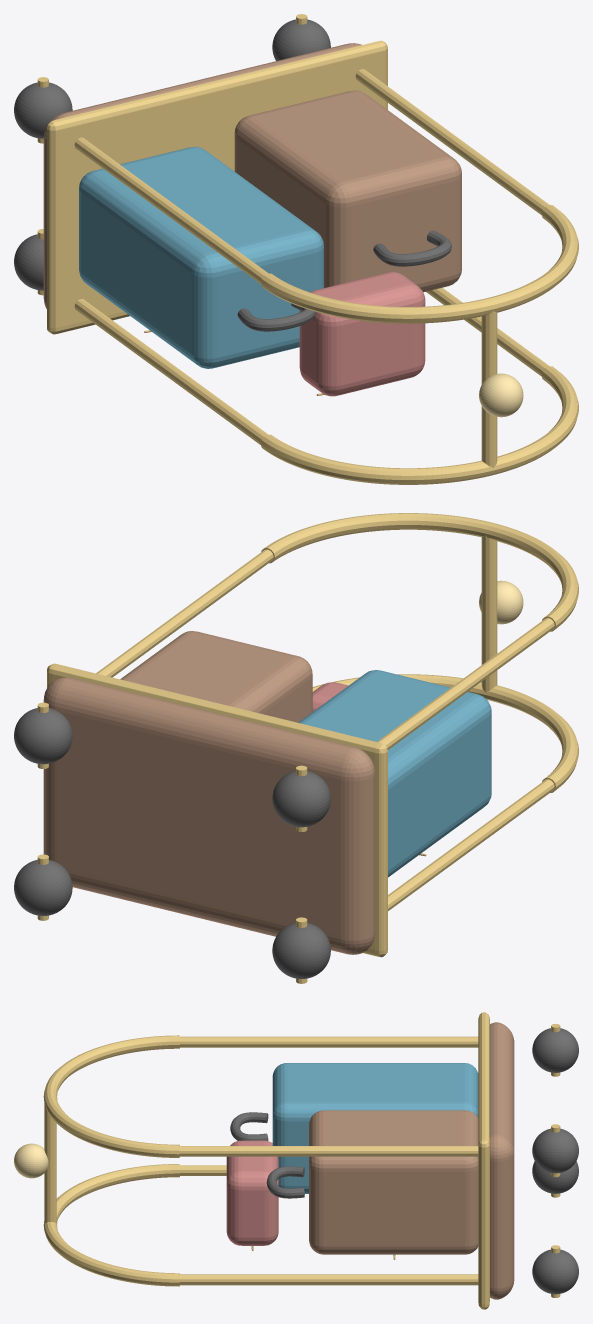
Rendered from HotelTogether_Bellhop_LuggageCart_V1.glb.
3 renders of one model, top to bottom at view 1: azimuth 30°, elevation 25°; view 2: azimuth 150°, elevation 25°; view 3: azimuth 270°, elevation 25°, orthographic. The views are drawn at different scales.
Parts seen in each view (by area): view 1: Suitcase_Blue, Suitcase_Brown, Cart_Base_Edge, Suitcase_Mini, Golden_Arch_0.34, Golden_Arch_-0.34, Vertical_Leg_-0.62_0.34, Vertical_Leg_-0.62_-0.34, Vertical_Leg_0.62_0.34, Cart_Base, Wheel_-1_1, Arch_Top_Connector (+6 smaller); view 2: Cart_Base, Suitcase_Blue, Suitcase_Brown, Cart_Base_Edge, Golden_Arch_0.34, Golden_Arch_-0.34, Vertical_Leg_-0.62_0.34, Vertical_Leg_0.62_0.34, Vertical_Leg_-0.62_-0.34, Wheel_-1_-1, Wheel_1_-1, Wheel_-1_1 (+3 smaller); view 3: Suitcase_Brown, Suitcase_Blue, Cart_Base, Suitcase_Mini, Golden_Arch_0.34, Golden_Arch_-0.34, Vertical_Leg_0.62_-0.34, Vertical_Leg_-0.62_0.34, Cart_Base_Edge, Vertical_Leg_0.62_0.34, Wheel_1_1, Wheel_1_-1 (+7 smaller).
Part boxes in pixels (x1,y1,x2,y2): Suitcase_Blue: (79, 146, 323, 368); Suitcase_Brown: (234, 90, 461, 292); Cart_Base_Edge: (47, 40, 387, 334); Suitcase_Mini: (299, 272, 425, 396); Golden_Arch_0.34: (260, 205, 578, 323); Golden_Arch_-0.34: (260, 366, 578, 484); Vertical_Leg_-0.62_0.34: (74, 137, 267, 283); Vertical_Leg_-0.62_-0.34: (74, 299, 267, 444); Vertical_Leg_0.62_0.34: (355, 69, 549, 215); Cart_Base: (43, 43, 361, 308); Wheel_-1_1: (14, 82, 72, 138); Arch_Top_Connector: (481, 311, 497, 468); Cart_Base: (43, 677, 375, 954); Suitcase_Blue: (298, 670, 491, 877); Suitcase_Brown: (120, 631, 312, 722); Cart_Base_Edge: (47, 663, 387, 957); Golden_Arch_0.34: (261, 513, 578, 631); Golden_Arch_-0.34: (312, 674, 578, 792); Vertical_Leg_-0.62_0.34: (377, 618, 554, 749); Vertical_Leg_0.62_0.34: (96, 549, 273, 677); Vertical_Leg_-0.62_-0.34: (388, 779, 554, 910); Wheel_-1_-1: (272, 923, 330, 978); Wheel_1_-1: (14, 860, 72, 915); Wheel_-1_1: (272, 771, 330, 827); Suitcase_Brown: (309, 1110, 478, 1254); Suitcase_Blue: (272, 1063, 478, 1193); Cart_Base: (489, 1022, 514, 1299); Suitcase_Mini: (226, 1140, 278, 1245); Golden_Arch_0.34: (43, 1035, 179, 1157); Golden_Arch_-0.34: (43, 1164, 179, 1286); Vertical_Leg_0.62_-0.34: (179, 1274, 478, 1285); Vertical_Leg_-0.62_0.34: (179, 1036, 478, 1047); Cart_Base_Edge: (478, 1012, 489, 1309); Vertical_Leg_0.62_0.34: (179, 1146, 478, 1156); Wheel_1_1: (532, 1128, 578, 1173); Wheel_1_-1: (532, 1249, 578, 1294).
Size of the model in its own units: 1.5 by 0.9 by 2.71.
